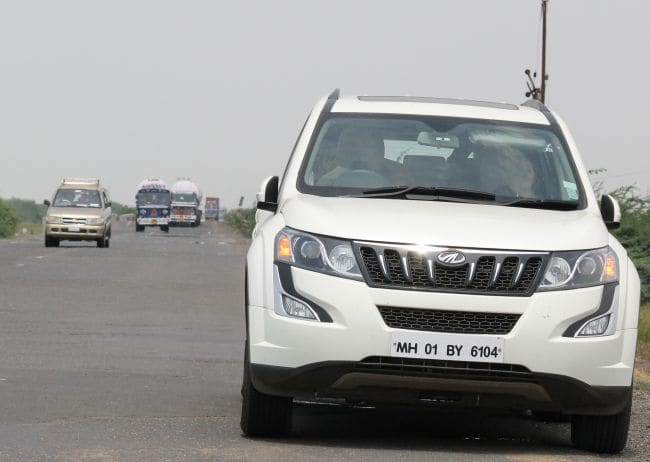number_plate: (382, 329, 514, 369)
